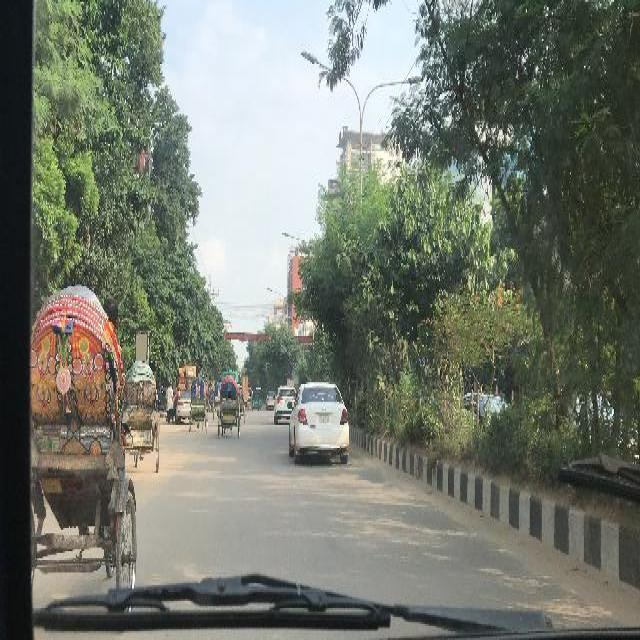car: (294, 380, 350, 462), (176, 390, 190, 424), (265, 391, 273, 409)
rickshaw: (30, 283, 122, 613), (124, 361, 160, 475), (218, 378, 238, 436), (189, 378, 207, 429), (212, 380, 218, 420), (239, 384, 245, 423)
suv: (274, 386, 292, 421)
three wheelers -CNG-: (252, 389, 262, 411)
